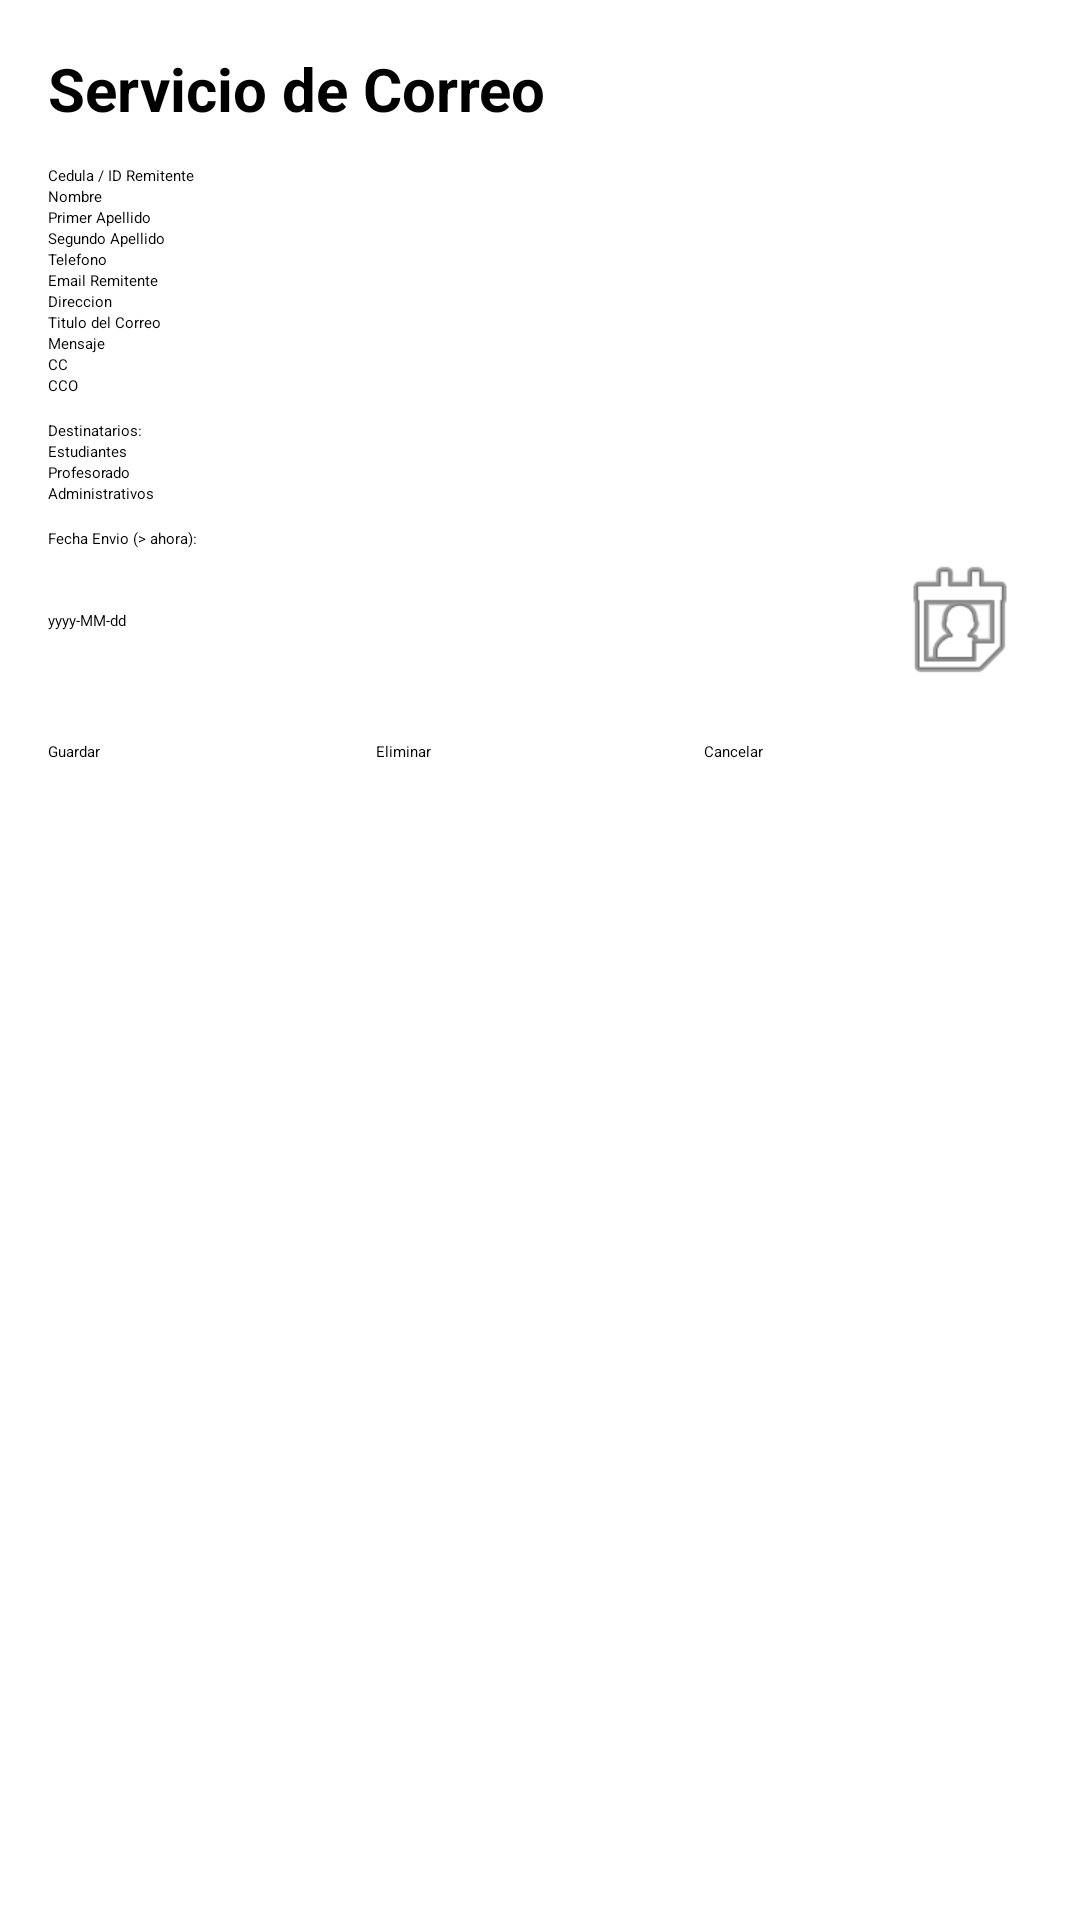

Named icons in this screenshot (1080 × 1920) and their centers, [x,y]:
Select Date: [960,619]
